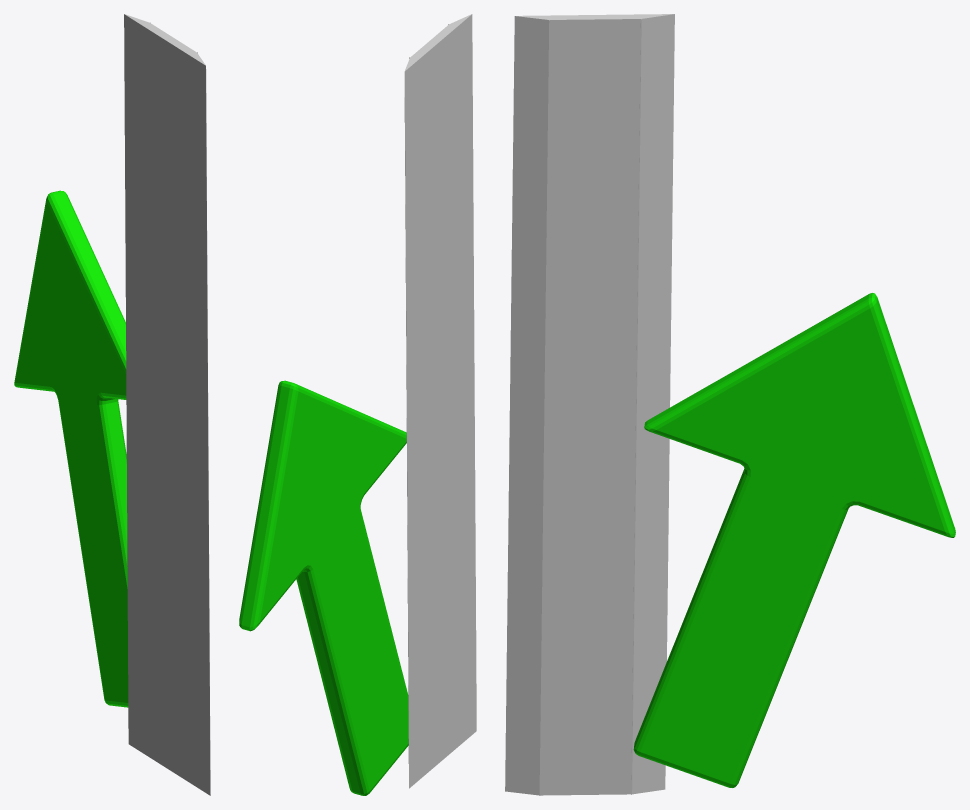
The model's file is RangeUp.fbx.
3 views of the same model, side by side, from view 1: azimuth 30°, elevation 25°; view 2: azimuth 150°, elevation 25°; view 3: azimuth 270°, elevation 25° (orthographic). The views are drawn at different scales.
Visible parts, largest first — view 1: ruler, Vert.001; view 2: ruler, Vert.001; view 3: ruler, Vert.001.
Boxes of the visible parts, x1,y1,x2,y2 form: ruler: (124, 14, 210, 795); Vert.001: (14, 190, 128, 707); ruler: (404, 14, 476, 788); Vert.001: (239, 380, 408, 795); ruler: (505, 14, 674, 795); Vert.001: (633, 293, 955, 787).
Bounding box in the file's own units: 21.66 × 388 × 204.
